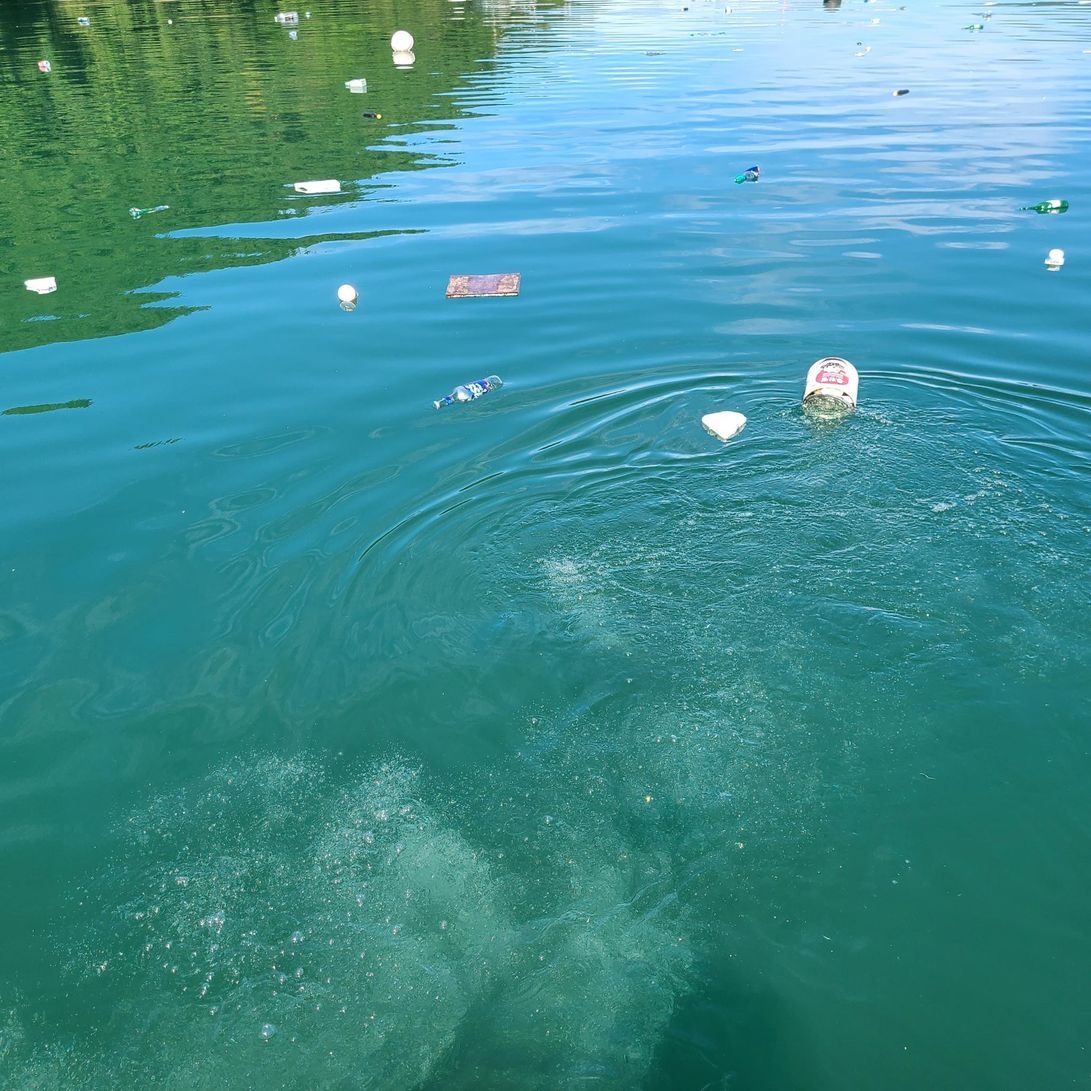sampah_terapung: (433, 376, 503, 410), (702, 411, 748, 444), (295, 179, 342, 194), (1020, 200, 1069, 214), (24, 278, 58, 295), (391, 31, 414, 52), (735, 167, 760, 185), (129, 206, 172, 216), (1045, 249, 1065, 266), (338, 285, 356, 302), (274, 12, 299, 22), (345, 79, 367, 87), (962, 24, 983, 30), (362, 113, 382, 119), (893, 90, 910, 97)
